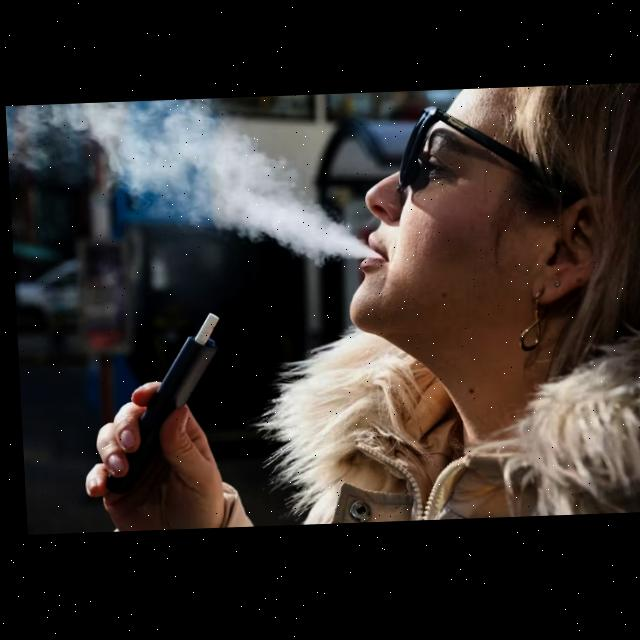vape: (94, 313, 223, 495)
